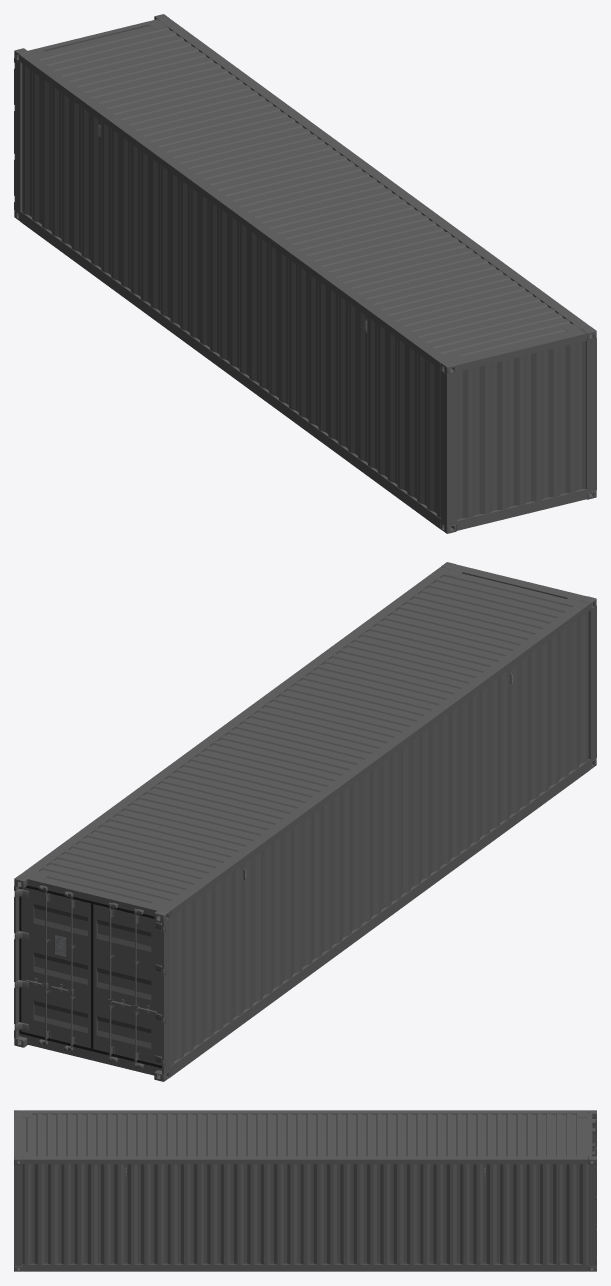
File: Container_40ft.fbx
3 views of the same model, one above another, from view 1: azimuth 30°, elevation 25°; view 2: azimuth 150°, elevation 25°; view 3: azimuth 270°, elevation 25° (orthographic). The views are drawn at different scales.
Visible parts, largest first — view 1: Container_40ft; view 2: Container_40ft; view 3: Container_40ft.
Part boxes in pixels (bbox=[...]): Container_40ft: bbox=[14, 14, 596, 533]; Container_40ft: bbox=[14, 562, 596, 1081]; Container_40ft: bbox=[14, 1110, 596, 1271].
Size of the model in its own units: 10.16 by 10.8 by 50.79.
